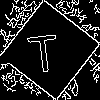T: (25, 25, 61, 74)
